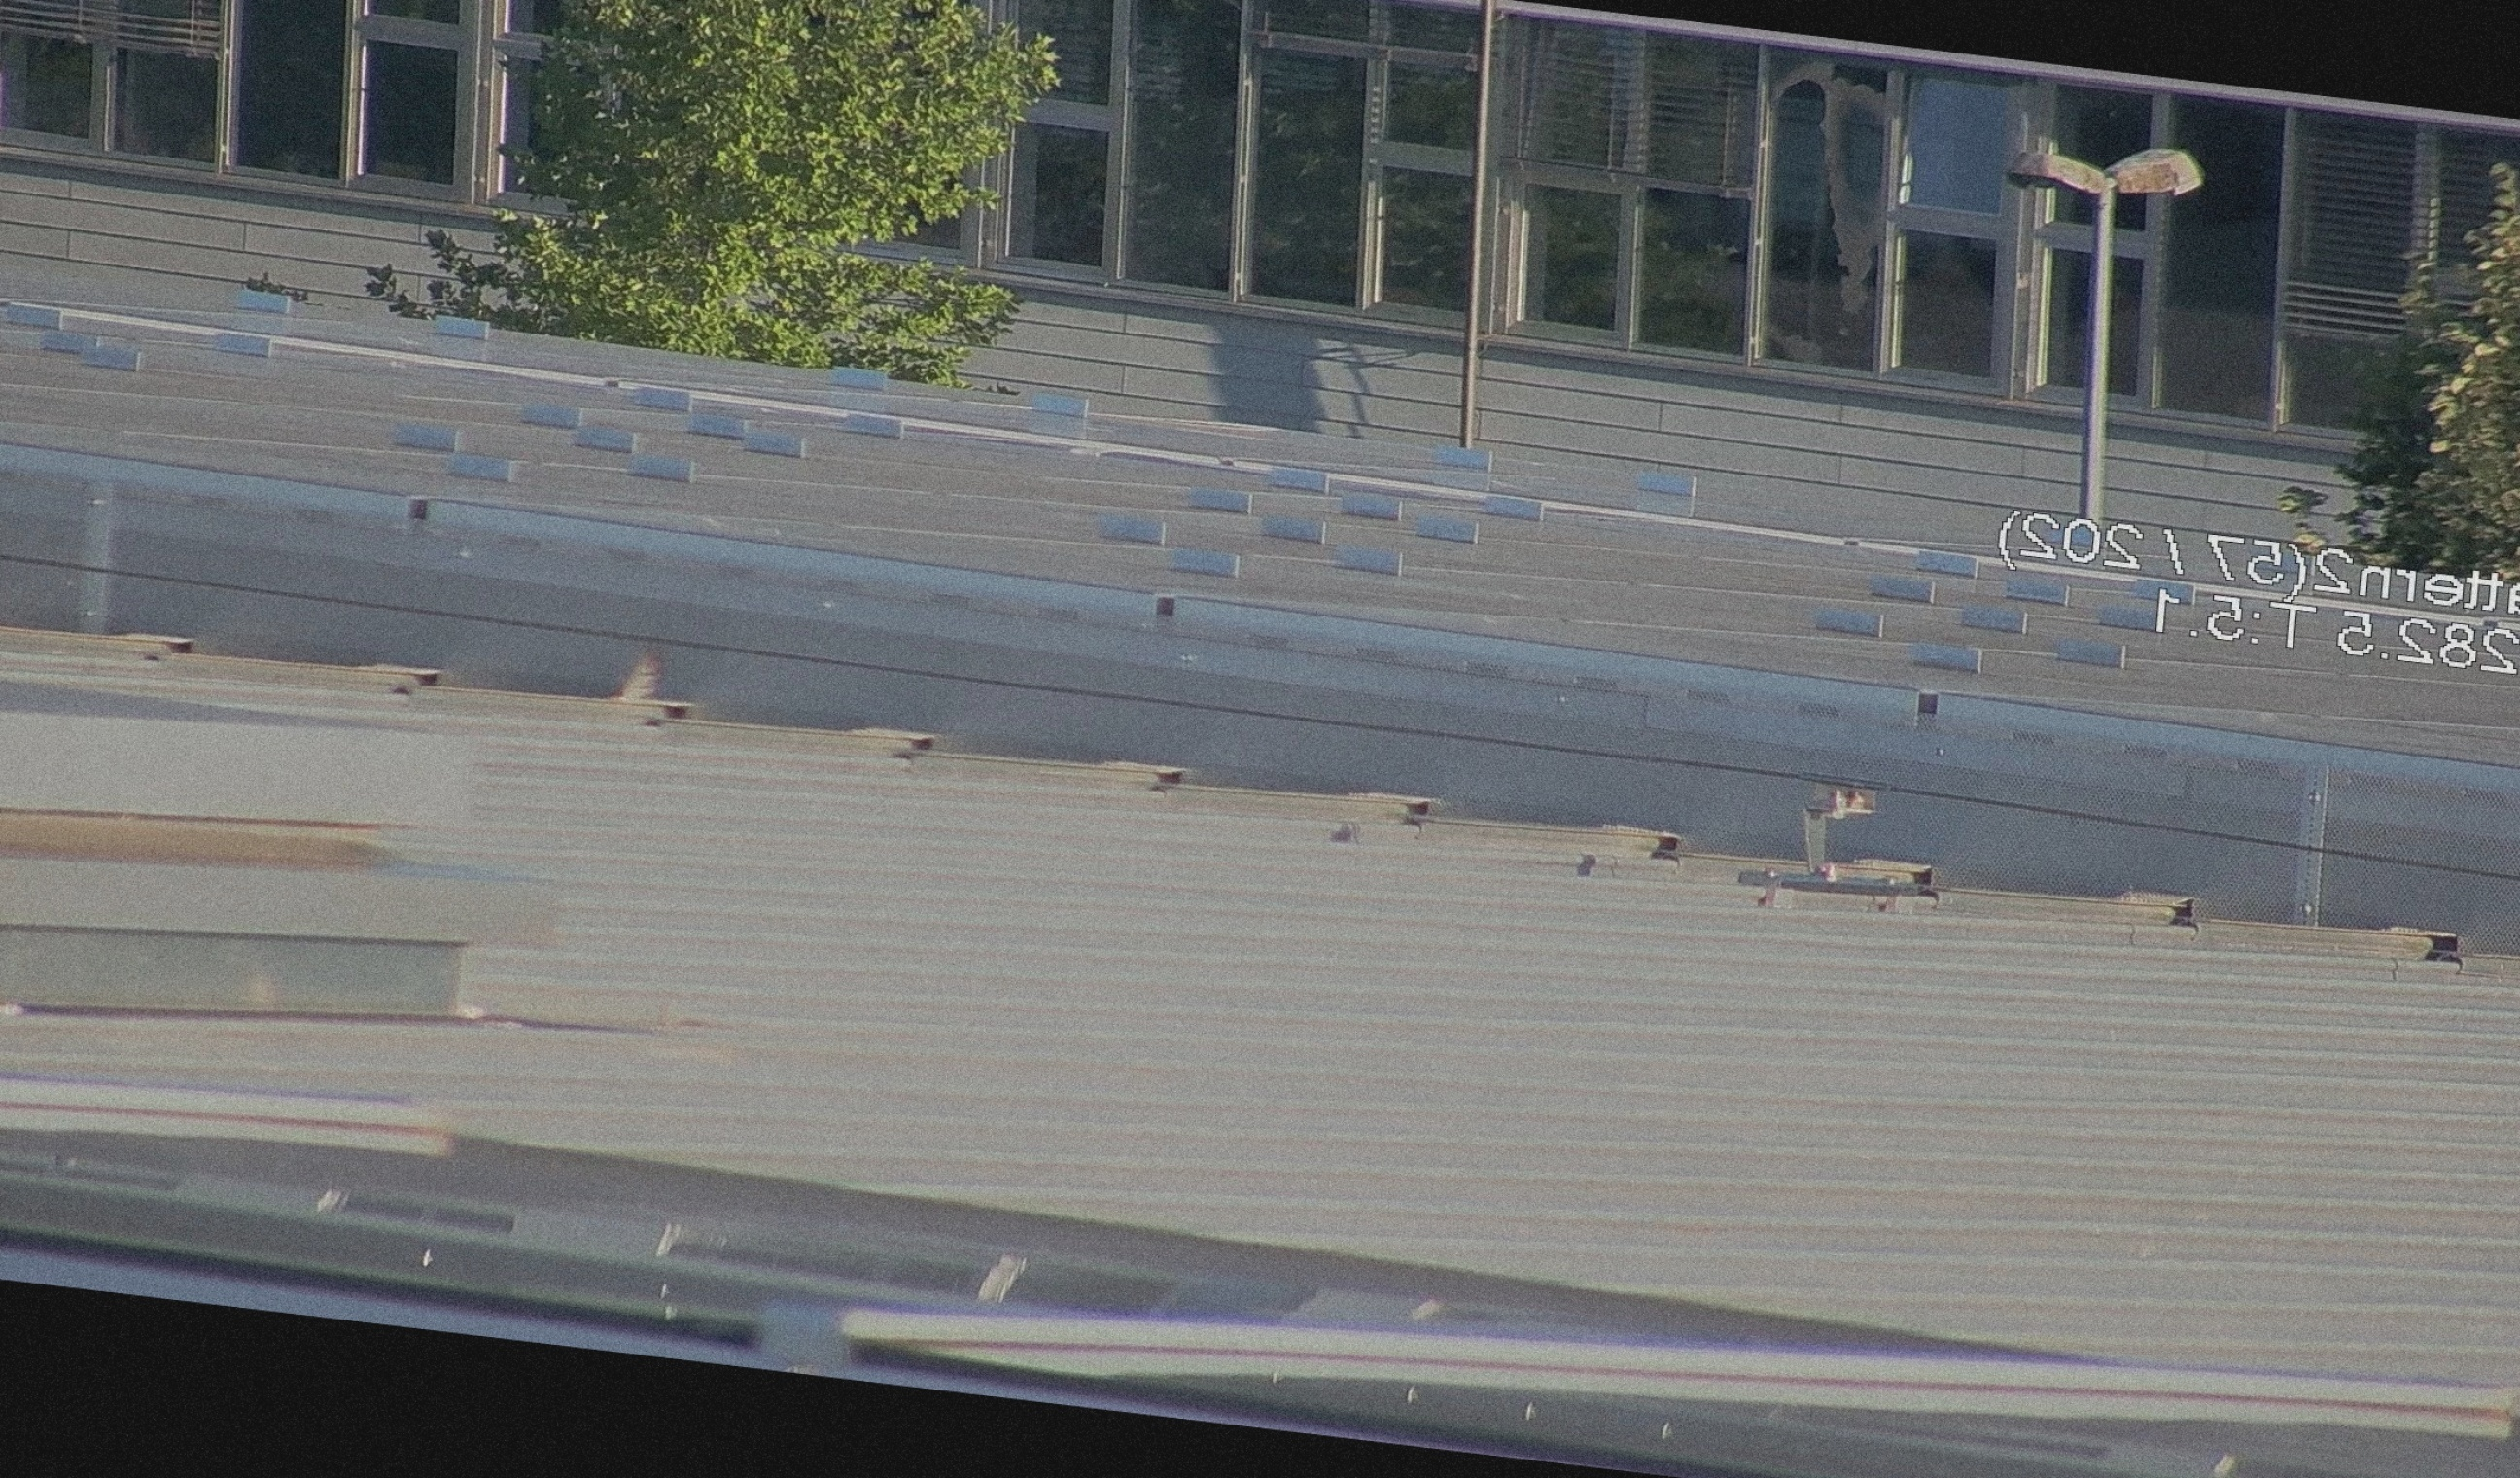Other: (591, 626, 691, 735)
